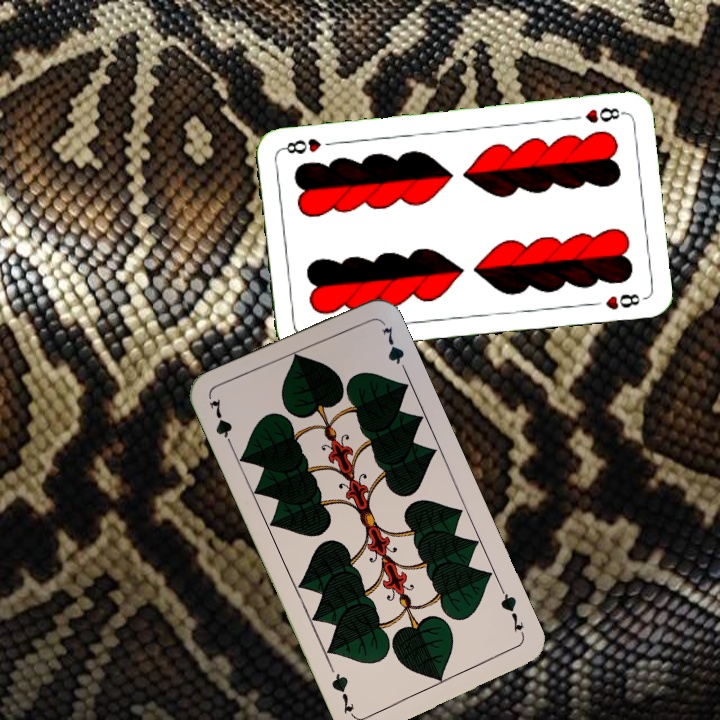G7: (205, 394, 237, 452), (496, 584, 527, 640)
H8: (581, 103, 627, 126)
